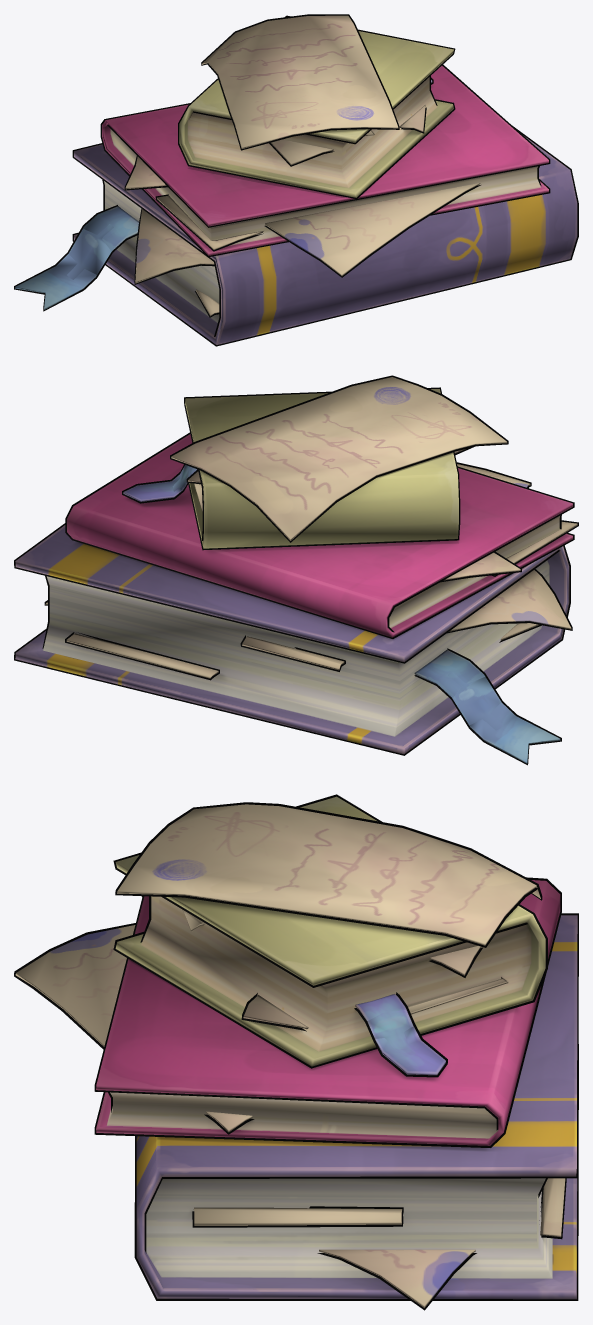
Rendered from Books.glb.
The picture shows the model from 3 angles, top to bottom: view 1: azimuth 30°, elevation 25°; view 2: azimuth 150°, elevation 25°; view 3: azimuth 270°, elevation 25°; orthographic projection. The views are drawn at different scales.
Parts seen in each view (by area): view 1: e2e_1; view 2: e2e_1; view 3: e2e_1.
Part boxes in pixels (x1=…): e2e_1: x1=14, y1=14, x2=578, y2=346; e2e_1: x1=14, y1=375, x2=578, y2=765; e2e_1: x1=14, y1=794, x2=578, y2=1310.
Size of the model in its own units: 6.48 by 2.69 by 4.64.
Materials: 2 (1 with a texture image).
